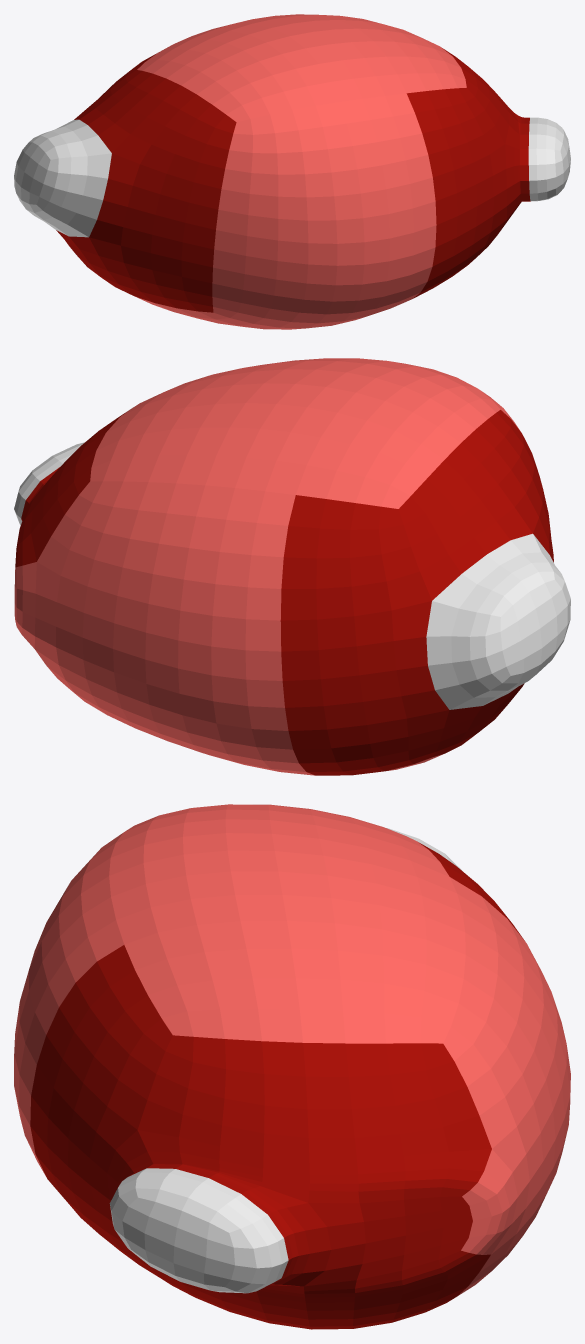
File: PieceOfMeat.fbx
3 views of the same model, one above another, from view 1: azimuth 30°, elevation 25°; view 2: azimuth 150°, elevation 25°; view 3: azimuth 270°, elevation 25° (orthographic). The views are drawn at different scales.
Parts seen in each view (by area): view 1: PieceOfMeat; view 2: PieceOfMeat; view 3: PieceOfMeat.
Part boxes in pixels (x1=…): PieceOfMeat: x1=14, y1=14, x2=570, y2=329; PieceOfMeat: x1=14, y1=358, x2=570, y2=775; PieceOfMeat: x1=14, y1=804, x2=570, y2=1329.
Size of the model in its own units: 0.2106 by 0.114 by 0.1456.
